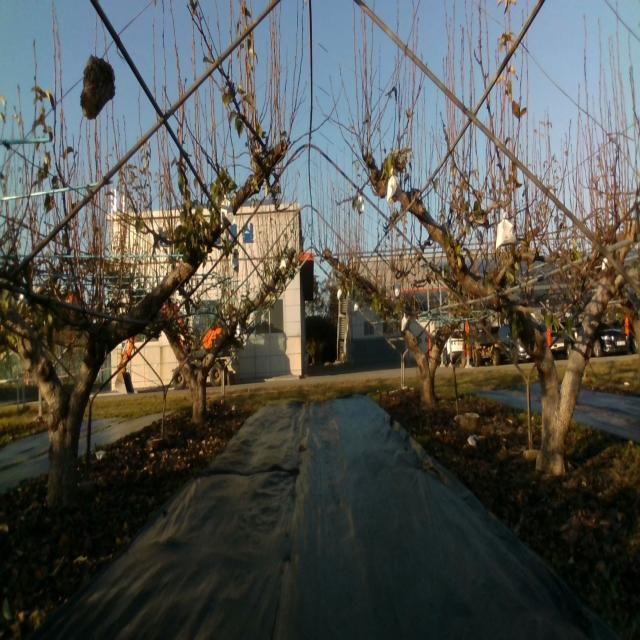pearbags: (494, 212, 516, 250), (220, 194, 237, 228), (386, 170, 403, 201), (193, 314, 203, 332)
